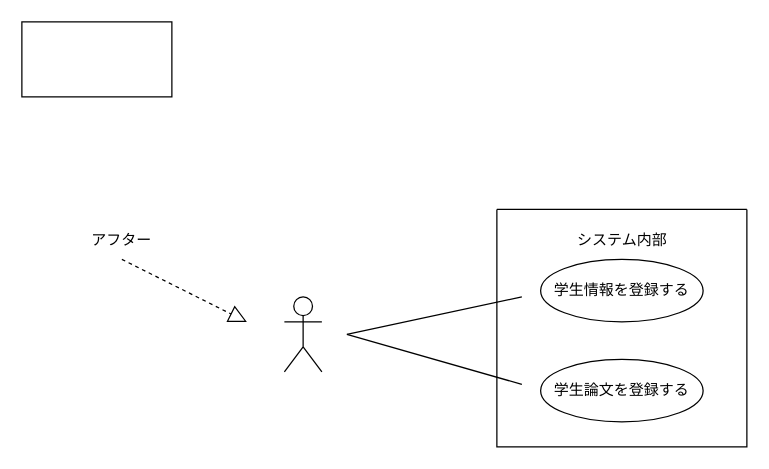
The diagram is 769 pixels wide and 469 high, and some of its shapes have lost their labels. Here are the shapes that lost their labels. From the top down, the centre of each, then its label:
[96,59]: web構文
[302,334]: Actor
